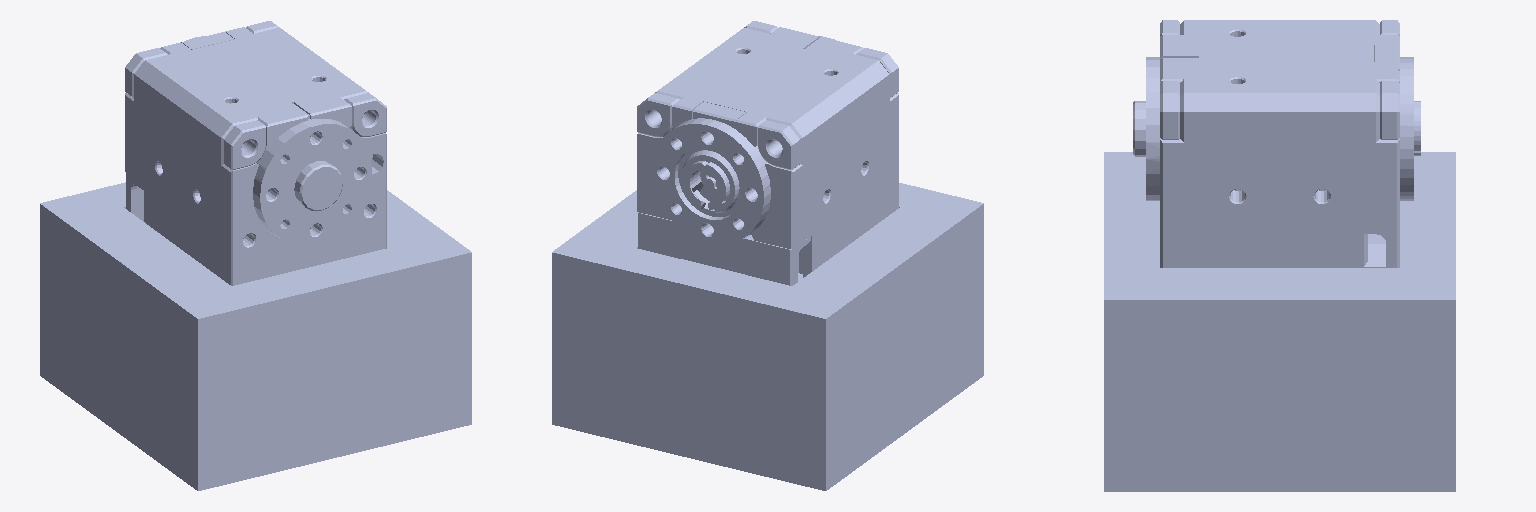
The robot description file, URDF, robot "hyper":
<?xml version="1.0" encoding="utf-8"?>
<robot name="hyper" xmlns:xacro="http://ros.org/wiki/xacro">



  <!-- Fix the base_link -->
  <link name="world"/>

  <joint name="planar" type="fixed">
    <parent link="world"/>
    <child link="base_link"/>
     <origin xyz="0.0 0.0 0.0" rpy="0 0 0" />
  </joint>

  <link name="base_link">
    <inertial>
      <origin
        xyz="0.00035091 -1.3484E-17 -0.0043115"
        rpy="0 0 0" />
      <mass
        value="2.0" />
            <inertia ixx="0.005543" ixy="0.0" ixz="0.0"
                     iyy="0.015726" iyz="0.0"
                     izz="0.019817" />
    </inertial>
    <visual>
      <origin
        xyz="0 0 0"
        rpy="0 0 0" />
      <geometry>
        <mesh
          filename="../meshes/base_link.STL" />
      </geometry>
      <material
        name="">
        <color
          rgba="0.79216 0.81961 0.93333 1" />
      </material>
    </visual>
    <collision>
      <origin
        xyz="0 0 0"
        rpy="0 0 0" />
      <geometry>
        <mesh
          filename="../meshes/base_link.STL" />
      </geometry>
    </collision>
  </link>

  <link
    name="LF_link1">
    <inertial>
      <origin
        xyz="-0.024455 0.035154 0.00033392"
        rpy="0 0 0" />
      <mass
        value="0.250" />
                <inertia ixx="0.000162" ixy="0.0" ixz="0.0"
                         iyy="0.000144" iyz="0.0"
                         izz="0.000122" />
    </inertial>
    <visual>
      <origin
        xyz="0 0 0"
        rpy="0 0 0" />
      <geometry>
        <mesh
          filename="../meshes/LF_link1.STL" />
      </geometry>
      <material
        name="">
        <color
          rgba="0.79216 0.81961 0.93333 1" />
      </material>
    </visual>
    <collision>
      <origin
        xyz="0 0 0"
        rpy="0 0 0" />
      <geometry>
        <mesh
          filename="../meshes/LF_link1.STL" />
      </geometry>
    </collision>
  </link>
  <joint
    name="LF_joint1"
    type="revolute">
    <origin
      xyz="0.1515 0.04025 -0.00175"
      rpy="0 0 0" />
    <parent
      link="base_link" />
    <child
      link="LF_link1" />
    <axis
      xyz="-0.99995 0 0.010204" />
    <limit
      lower="-3.14"
      upper="3.14"
      effort="10"
      velocity="4.8" />
    <!--dynamics damping ="0.7"/-->
  </joint>
  <link
    name="LF_link2">
    <inertial>
      <origin
        xyz="0.00096259 -0.097555 -0.0025994"
        rpy="0 0 0" />
      <mass
        value="0.125" />
                <inertia ixx="0.000592" ixy="0.0" ixz="0.0"
                         iyy="0.000058" iyz="0.0"
                         izz="0.000558" />
    </inertial>
    <visual>
      <origin
        xyz="0 0 0"
        rpy="0 0 0" />
      <geometry>
        <mesh
          filename="../meshes/LF_link2.STL" />
      </geometry>
      <material
        name="">
        <color
          rgba="0.79216 0.81961 0.93333 1" />
      </material>
    </visual>
    <collision>
      <origin
        xyz="0 0 0"
        rpy="0 0 0" />
      <geometry>
        <mesh
          filename="../meshes/LF_link2.STL" />
      </geometry>
    </collision>
  </link>
  <joint
    name="LF_joint2"
    type="revolute">
    <origin
      xyz="-0.024 0.079 0.0125"
      rpy="0 0 -1.5708" />
    <parent
      link="LF_link1" />
    <child
      link="LF_link2" />
    <axis
      xyz="1 0 0" />
    <limit
      lower="-3.14"
      upper="3.14"
      effort="10"
      velocity="4.8" />
    <!--dynamics damping ="0.7"/-->
  </joint>
  <link
    name="LF_link3">
    <inertial>
      <origin
        xyz="0.021928 4.0475E-05 -0.1015"
        rpy="0 0 0" />
      <mass
        value="0.125" />
                <inertia ixx="0.000442" ixy="0.0" ixz="0.0"
                         iyy="0.000442" iyz="0.0"
                         izz="0.000008" />
    </inertial>
    <visual>
      <origin
        xyz="0 0 0"
        rpy="0 0 0" />
      <geometry>
        <mesh
          filename="../meshes/LF_link3.STL" />
      </geometry>
      <material
        name="">
        <color
          rgba="0.79216 0.81961 0.93333 1" />
      </material>
    </visual>
    <collision>
      <origin
        xyz="0 0 0"
        rpy="0 0 0" />
      <geometry>
        <mesh
          filename="../meshes/LF_link3.STL" />
      </geometry>
    </collision>
  </link>
  <joint
    name="LF_joint3"
    type="revolute">
    <origin
      xyz="-0.022 -0.18525 -0.03025"
      rpy="0 0 0" />
    <parent
      link="LF_link2" />
    <child
      link="LF_link3" />
    <axis
      xyz="-1 -0.0017021 0" />
    <limit
      lower="-3.14"
      upper="3.14"
      effort="10"
      velocity="4.8" />
    <!--dynamics damping ="0.7"/-->
  </joint>
  <link
    name="RF_link1">
    <inertial>
      <origin
        xyz="-0.024443 -0.035154 0.00032454"
        rpy="0 0 0" />
      <mass
        value="0.250" />
                <inertia ixx="0.000162" ixy="0.0" ixz="0.0"
                         iyy="0.000144" iyz="0.0"
                         izz="0.000122" />
    </inertial>
    <visual>
      <origin
        xyz="0 0 0"
        rpy="0 0 0" />
      <geometry>
        <mesh
          filename="../meshes/RF_link1.STL" />
      </geometry>
      <material
        name="">
        <color
          rgba="0.79216 0.81961 0.93333 1" />
      </material>
    </visual>
    <collision>
      <origin
        xyz="0 0 0"
        rpy="0 0 0" />
      <geometry>
        <mesh
          filename="../meshes/RF_link1.STL" />
      </geometry>
    </collision>
  </link>
  <joint
    name="RF_joint1"
    type="revolute">
    <origin
      xyz="0.1515 -0.04025 -0.00175"
      rpy="0 0 0" />
    <parent
      link="base_link" />
    <child
      link="RF_link1" />
    <axis
      xyz="0.99999 0 0.005102" />
    <limit
      lower="-3.14"
      upper="3.14"
      effort="10"
      velocity="4.8" />
    <!--dynamics damping ="0.7"/-->
  </joint>
  <link
    name="RF_link2">
    <inertial>
      <origin
        xyz="-0.00096259 -0.097559 -0.0025994"
        rpy="0 0 0" />
      <mass
        value="0.125" />
                <inertia ixx="0.000592" ixy="0.0" ixz="0.0"
                         iyy="0.000058" iyz="0.0"
                         izz="0.000558" />
    </inertial>
    <visual>
      <origin
        xyz="0 0 0"
        rpy="0 0 0" />
      <geometry>
        <mesh
          filename="../meshes/RF_link2.STL" />
      </geometry>
      <material
        name="">
        <color
          rgba="0.79216 0.81961 0.93333 1" />
      </material>
    </visual>
    <collision>
      <origin
        xyz="0 0 0"
        rpy="0 0 0" />
      <geometry>
        <mesh
          filename="../meshes/RF_link2.STL" />
      </geometry>
    </collision>
  </link>
  <joint
    name="RF_joint2"
    type="revolute">
    <origin
      xyz="-0.024 -0.079 0.0125"
      rpy="0 0 -1.5708" />
    <parent
      link="RF_link1" />
    <child
      link="RF_link2" />
    <axis
      xyz="1 0 0" />
    <limit
      lower="-3.14"
      upper="3.14"
      effort="10"
      velocity="4.8" />
    <!--dynamics damping ="0.7"/-->
  </joint>
  <link
    name="RF_link3">
    <inertial>
      <origin
        xyz="-0.021928 -4.0475E-05 -0.1015"
        rpy="0 0 0" />
      <mass
        value="0.125" />
                <inertia ixx="0.000442" ixy="0.0" ixz="0.0"
                         iyy="0.000442" iyz="0.0"
                         izz="0.000008" />
    </inertial>
    <visual>
      <origin
        xyz="0 0 0"
        rpy="0 0 0" />
      <geometry>
        <mesh
          filename="../meshes/RF_link3.STL" />
      </geometry>
      <material
        name="">
        <color
          rgba="0.79216 0.81961 0.93333 1" />
      </material>
    </visual>
    <collision>
      <origin
        xyz="0 0 0"
        rpy="0 0 0" />
      <geometry>
        <mesh
          filename="../meshes/RF_link3.STL" />
      </geometry>
    </collision>
  </link>
  <joint
    name="RF_joint3"
    type="revolute">
    <origin
      xyz="0.022 -0.18525 -0.03025"
      rpy="0 0 0" />
    <parent
      link="RF_link2" />
    <child
      link="RF_link3" />
    <axis
      xyz="-1 -0.0017021 0" />
    <limit
      lower="-3.14"
      upper="3.14"
      effort="10"
      velocity="4.8" />
    <!--dynamics damping ="0.7"/-->
  </joint>
  <link
    name="LB_link1">
    <inertial>
      <origin
        xyz="-0.024455 0.035154 0.00033392"
        rpy="0 0 0" />
      <mass
        value="0.250" />
                <inertia ixx="0.000162" ixy="0.0" ixz="0.0"
                         iyy="0.000144" iyz="0.0"
                         izz="0.000122" />
    </inertial>
    <visual>
      <origin
        xyz="0 0 0"
        rpy="0 0 0" />
      <geometry>
        <mesh
          filename="../meshes/LB_link1.STL" />
      </geometry>
      <material
        name="">
        <color
          rgba="0.79216 0.81961 0.93333 1" />
      </material>
    </visual>
    <collision>
      <origin
        xyz="0 0 0"
        rpy="0 0 0" />
      <geometry>
        <mesh
          filename="../meshes/LB_link1.STL" />
      </geometry>
    </collision>
  </link>
  <joint
    name="LB_joint1"
    type="revolute">
    <origin
      xyz="-0.1025 0.04025 -0.00175"
      rpy="0 0 0" />
    <parent
      link="base_link" />
    <child
      link="LB_link1" />
    <axis
      xyz="-0.99995 0 -0.010204" />
    <limit
      lower="-3.14"
      upper="3.14"
      effort="10"
      velocity="4.8" />
    <!--dynamics damping ="0.7"/-->
  </joint>
  <link
    name="LB_link2">
    <inertial>
      <origin
        xyz="0.00096259 -0.097555 -0.0025994"
        rpy="0 0 0" />
      <mass
        value="0.125" />
                <inertia ixx="0.000592" ixy="0.0" ixz="0.0"
                         iyy="0.000058" iyz="0.0"
                         izz="0.000558" />
    </inertial>
    <visual>
      <origin
        xyz="0 0 0"
        rpy="0 0 0" />
      <geometry>
        <mesh
          filename="../meshes/LB_link2.STL" />
      </geometry>
      <material
        name="">
        <color
          rgba="0.79216 0.81961 0.93333 1" />
      </material>
    </visual>
    <collision>
      <origin
        xyz="0 0 0"
        rpy="0 0 0" />
      <geometry>
        <mesh
          filename="../meshes/LB_link2.STL" />
      </geometry>
    </collision>
  </link>
  <joint
    name="LB_joint2"
    type="revolute">
    <origin
      xyz="-0.024 0.079 0.0125"
      rpy="0 0 -1.5708" />
    <parent
      link="LB_link1" />
    <child
      link="LB_link2" />
    <axis
      xyz="1 0 0" />
    <limit
      lower="-3.14"
      upper="3.14"
      effort="10"
      velocity="4.8" />
    <!--dynamics damping ="0.7"/-->
  </joint>
  <link
    name="LB_link3">
    <inertial>
      <origin
        xyz="0.021928 3.6546E-05 -0.1015"
        rpy="0 0 0" />
      <mass
        value="0.125" />
                <inertia ixx="0.000442" ixy="0.0" ixz="0.0"
                         iyy="0.000442" iyz="0.0"
                         izz="0.000008" />
    </inertial>
    <visual>
      <origin
        xyz="0 0 0"
        rpy="0 0 0" />
      <geometry>
        <mesh
          filename="../meshes/LB_link3.STL" />
      </geometry>
      <material
        name="">
        <color
          rgba="0.79216 0.81961 0.93333 1" />
      </material>
    </visual>
    <collision>
      <origin
        xyz="0 0 0"
        rpy="0 0 0" />
      <geometry>
        <mesh
          filename="../meshes/LB_link3.STL" />
      </geometry>
    </collision>
  </link>
  <joint
    name="LB_joint3"
    type="revolute">
    <origin
      xyz="-0.022 -0.18525 -0.03025"
      rpy="0 0 0" />
    <parent
      link="LB_link2" />
    <child
      link="LB_link3" />
    <axis
      xyz="-1 0 0" />
    <limit
      lower="-3.14"
      upper="3.14"
      effort="10"
      velocity="4.8" />
    <!--dynamics damping ="0.7"/-->
  </joint>
  <link
    name="RB_link1">
    <inertial>
      <origin
        xyz="-0.024443 -0.035154 0.00032454"
        rpy="0 0 0" />
      <mass
        value="0.250" />
                <inertia ixx="0.000162" ixy="0.0" ixz="0.0"
                         iyy="0.000144" iyz="0.0"
                         izz="0.000122" />
    </inertial>
    <visual>
      <origin
        xyz="0 0 0"
        rpy="0 0 0" />
      <geometry>
        <mesh
          filename="../meshes/RB_link1.STL" />
      </geometry>
      <material
        name="">
        <color
          rgba="0.79216 0.81961 0.93333 1" />
      </material>
    </visual>
    <collision>
      <origin
        xyz="0 0 0"
        rpy="0 0 0" />
      <geometry>
        <mesh
          filename="../meshes/RB_link1.STL" />
      </geometry>
    </collision>
  </link>
  <joint
    name="RB_joint1"
    type="revolute">
    <origin
      xyz="-0.1025 -0.04025 -0.00175"
      rpy="0 0 0" />
    <parent
      link="base_link" />
    <child
      link="RB_link1" />
    <axis
      xyz="0.99999 0 0.005102" />
    <limit
      lower="-3.14"
      upper="3.14"
      effort="10"
      velocity="4.8" />
    <!--dynamics damping ="0.7"/-->
  </joint>
  <link
    name="RB_link2">
    <inertial>
      <origin
        xyz="-0.00096259 -0.097559 -0.0025994"
        rpy="0 0 0" />
      <mass
        value="0.125" />
                <inertia ixx="0.000592" ixy="0.0" ixz="0.0"
                         iyy="0.000058" iyz="0.0"
                         izz="0.000558" />
    </inertial>
    <visual>
      <origin
        xyz="0 0 0"
        rpy="0 0 0" />
      <geometry>
        <mesh
          filename="../meshes/RB_link2.STL" />
      </geometry>
      <material
        name="">
        <color
          rgba="0.79216 0.81961 0.93333 1" />
      </material>
    </visual>
    <collision>
      <origin
        xyz="0 0 0"
        rpy="0 0 0" />
      <geometry>
        <mesh
          filename="../meshes/RB_link2.STL" />
      </geometry>
    </collision>
  </link>
  <joint
    name="RB_joint2"
    type="revolute">
    <origin
      xyz="-0.024 -0.079 0.0125"
      rpy="0 0 -1.5708" />
    <parent
      link="RB_link1" />
    <child
      link="RB_link2" />
    <axis
      xyz="1 0 0" />
    <limit
      lower="-3.14"
      upper="3.14"
      effort="10"
      velocity="4.8" />
    <!--dynamics damping ="0.7"/-->
  </joint>
  <link
    name="RB_link3">
    <inertial>
      <origin
        xyz="-0.021928 -4.0475E-05 -0.1015"
        rpy="0 0 0" />
      <mass
        value="0.125" />
                <inertia ixx="0.000442" ixy="0.0" ixz="0.0"
                         iyy="0.000442" iyz="0.0"
                         izz="0.000008" />
    </inertial>
    <visual>
      <origin
        xyz="0 0 0"
        rpy="0 0 0" />
      <geometry>
        <mesh
          filename="../meshes/RB_link3.STL" />
      </geometry>
      <material
        name="">
        <color
          rgba="0.79216 0.81961 0.93333 1" />
      </material>
    </visual>
    <collision>
      <origin
        xyz="0 0 0"
        rpy="0 0 0" />
      <geometry>
        <mesh
          filename="../meshes/RB_link3.STL" />
      </geometry>
    </collision>
  </link>
  <joint
    name="RB_joint3"
    type="revolute">
    <origin
      xyz="0.022 -0.18525 -0.03025"
      rpy="0 0 0" />
    <parent
      link="RB_link2" />
    <child
      link="RB_link3" />
    <axis
      xyz="-1 0.0017021 0" />
    <limit
      lower="-3.14"
      upper="3.14"
      effort="10"
      velocity="4.8" />
    <!--dynamics damping ="0.7"/-->
  </joint>
</robot>

--- Facts derived from the render (not from the file) ---
3 views of the same robot in one strip: view 1: azimuth 30°, elevation 25°; view 2: azimuth 150°, elevation 25°; view 3: azimuth 270°, elevation 25° (orthographic).
Robot: hyper — 14 links, 13 joints (12 revolute, 1 fixed); root link world; default pose: every joint at zero.
Visible links, largest first — view 1: base_link; view 2: base_link; view 3: base_link.
Boxes of the visible links, x1=… form: base_link: x1=40, y1=21, x2=471, y2=490; base_link: x1=552, y1=21, x2=983, y2=490; base_link: x1=1104, y1=20, x2=1455, y2=491.
Size in the robot's own frame: 0.05 by 0.05 by 0.0565 metres.
Meshes: 13 distinct files referenced, 1 mesh visuals loaded (1 binary STL); not drawn: 12 (reference not matched to a file when rendering).